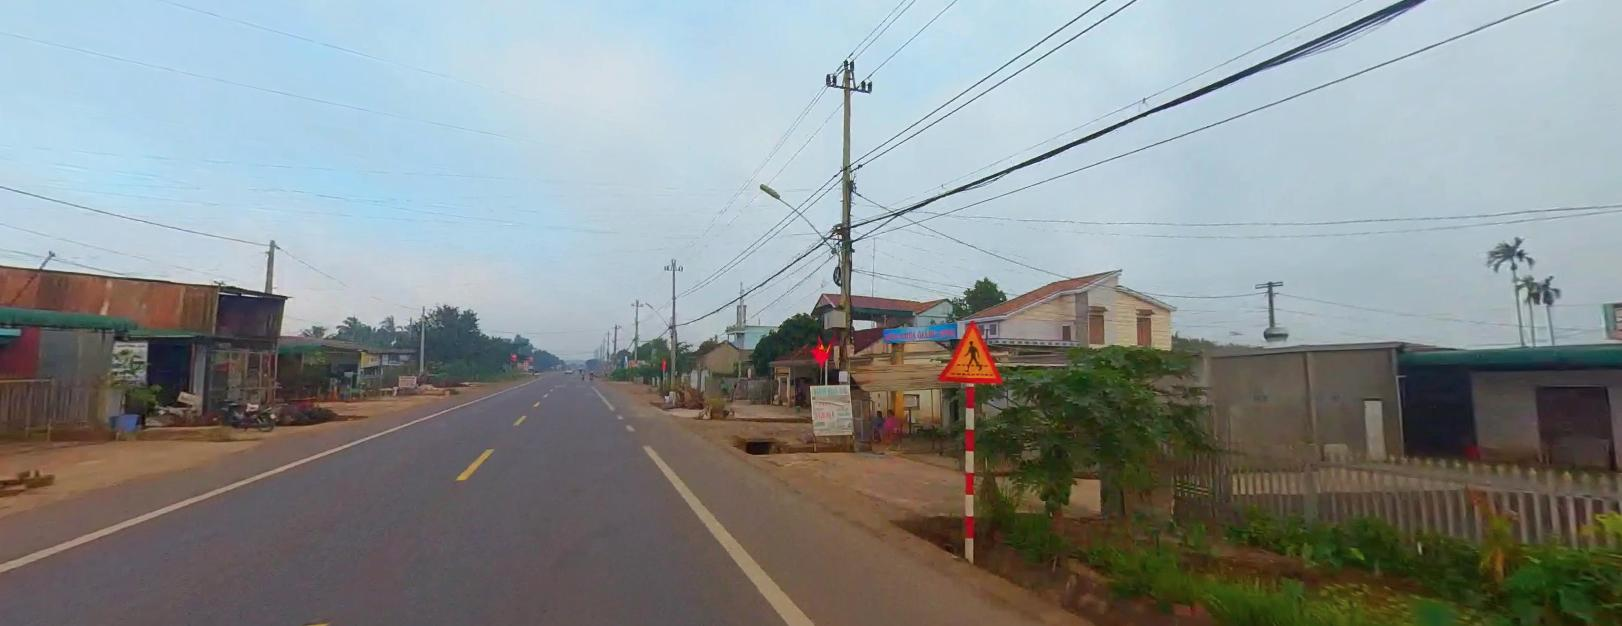Nguy hiem: (936, 318, 1004, 383)
